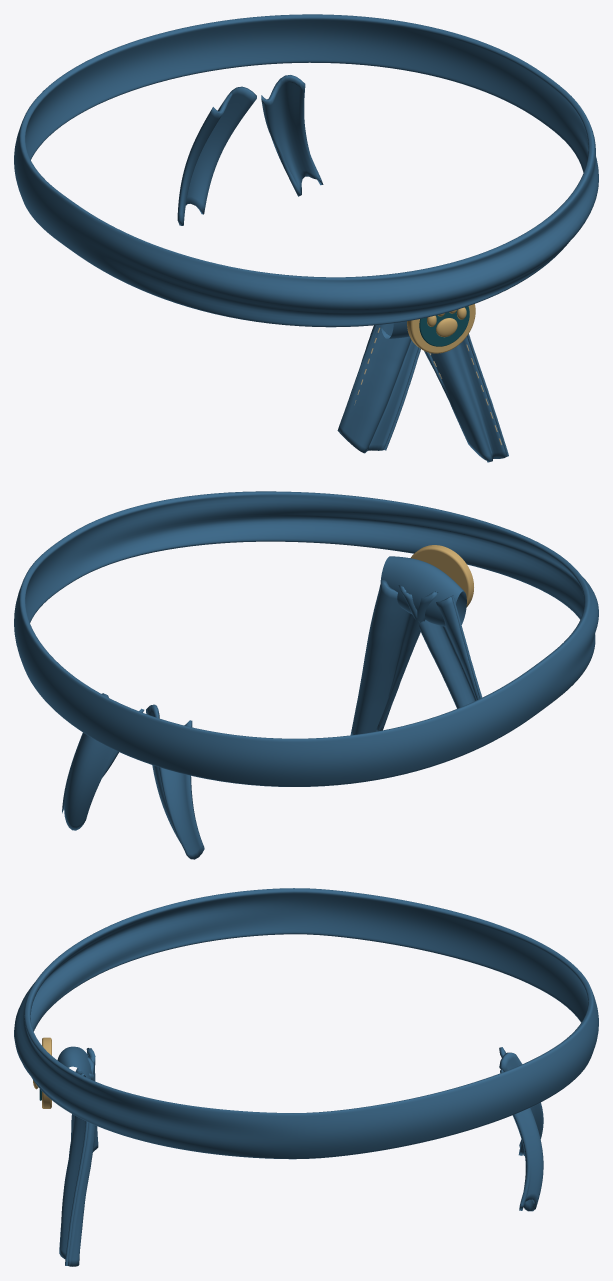
The model's file is bear_travel_outfit_v4.glb.
The picture shows the model from 3 angles, top to bottom: view 1: azimuth 30°, elevation 25°; view 2: azimuth 150°, elevation 25°; view 3: azimuth 270°, elevation 25°; orthographic projection. The views are drawn at different scales.
Parts seen in each view (by area): view 1: bear_travel_outfit_v4__WovenCloth_TravelBlue, bear_travel_outfit_v4__SatinBrass_PawBrooch, bear_travel_outfit_v4__Enamel_InsetShadow; view 2: bear_travel_outfit_v4__WovenCloth_TravelBlue, bear_travel_outfit_v4__SatinBrass_PawBrooch; view 3: bear_travel_outfit_v4__WovenCloth_TravelBlue.
Part boxes in pixels (left/top/right/bottom): bear_travel_outfit_v4__WovenCloth_TravelBlue: left=14, top=14, right=598, bottom=462; bear_travel_outfit_v4__SatinBrass_PawBrooch: left=407, top=304, right=475, bottom=353; bear_travel_outfit_v4__Enamel_InsetShadow: left=419, top=306, right=469, bottom=346; bear_travel_outfit_v4__WovenCloth_TravelBlue: left=14, top=491, right=598, bottom=859; bear_travel_outfit_v4__SatinBrass_PawBrooch: left=410, top=545, right=473, bottom=606; bear_travel_outfit_v4__WovenCloth_TravelBlue: left=14, top=888, right=598, bottom=1266.
Bounding box in the file's own units: 1.13 × 0.5489 × 1.21.
